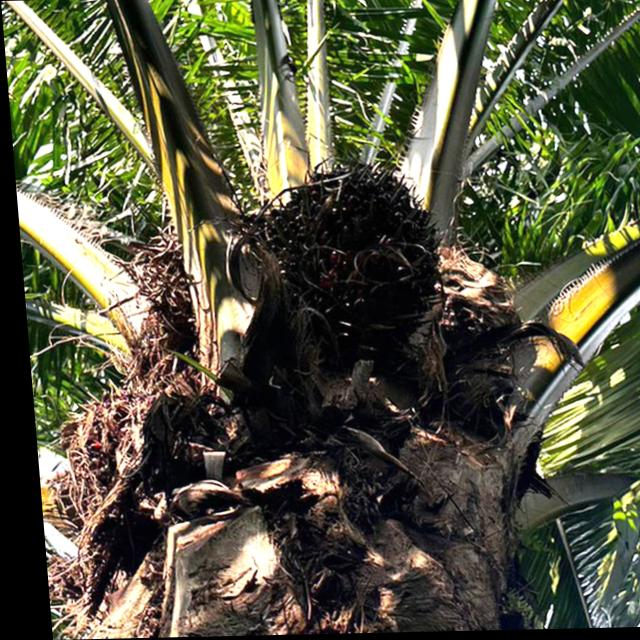ripe: (251, 141, 460, 345)
